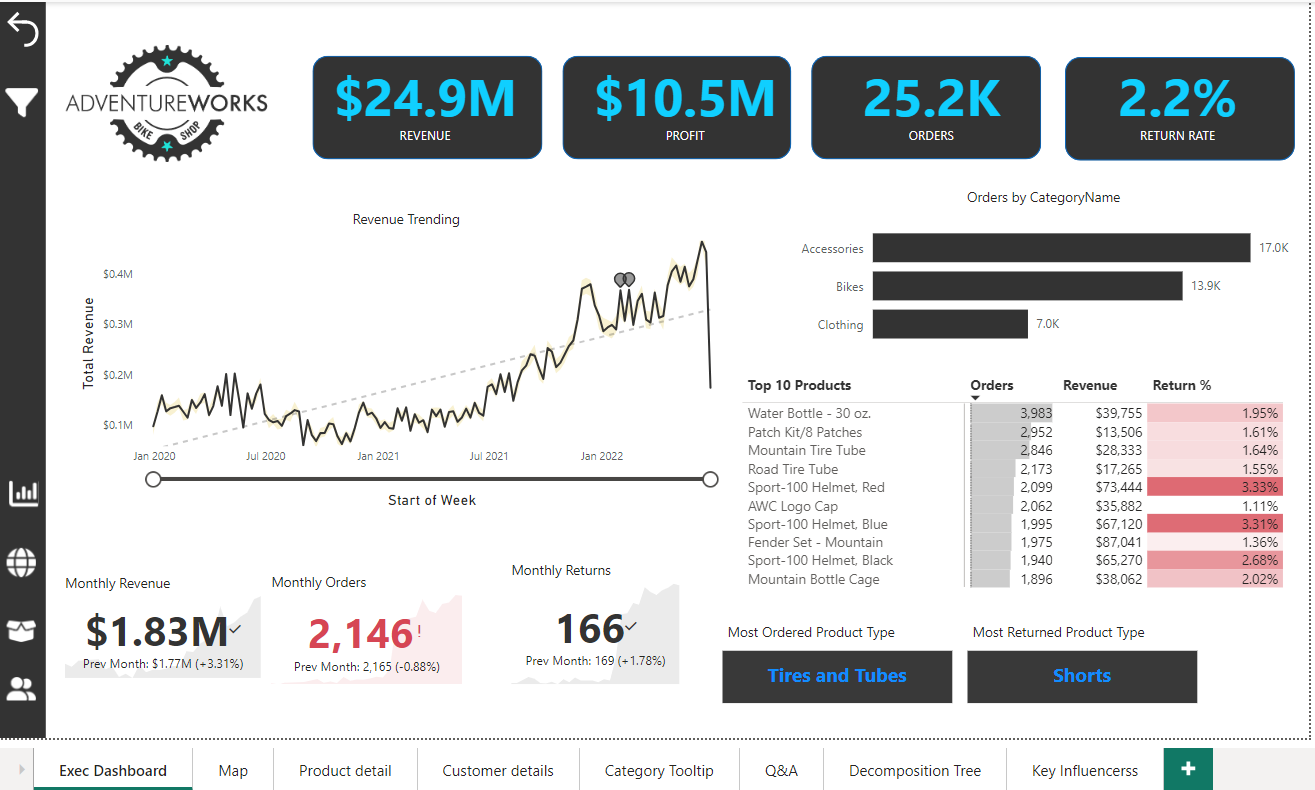

This screenshot's page, from the dashboard's own definition file:
{"tool":"powerbi","page":{"name":"Exec Dashboard","canvas":[1280,720],"ordinal":0},"visuals":[{"type":"group","id":"g1","title":"KPI backgrounds","box":[306.2,25,961.2,147.5],"z":0,"group":"g3"},{"type":"card","fields":{"Values":["Meassure Table.Return Rate"]},"box":[1052.5,25,198.8,147.5],"z":0,"group":"g2"},{"type":"image","title":"AW Logo","box":[37.5,27.5,251.2,145],"z":0},{"type":"shape","box":[306.2,52.7,225,101.2],"z":0,"group":"g1"},{"type":"actionButton","box":[4.8,447.4,36.7,67.2],"z":0,"group":"g4"},{"type":"actionButton","box":[2.4,638.1,36.7,67.2],"z":500,"group":"g4"},{"type":"shape","title":"Left Nav Background","box":[0,0,45,720],"z":1000},{"type":"group","id":"g2","title":"KPI value","box":[571,25,680.2,147.5],"z":1000,"group":"g3"},{"type":"card","fields":{"Values":["Meassure Table.Total orders"]},"box":[811.7,25,198.8,147.5],"z":1000,"group":"g2"},{"type":"shape","box":[793.7,52.7,225,101.2],"z":1000,"group":"g1"},{"type":"actionButton","box":[2.4,514.6,36.7,67.2],"z":1000,"group":"g4"},{"type":"group","id":"g3","title":"KPIs ","box":[306.2,25,961.2,147.5],"z":2000},{"type":"card","fields":{"Values":["Meassure Table.Total Profit"]},"box":[571,25,198.8,147.5],"z":2000,"group":"g2"},{"type":"shape","box":[1042.4,53.9,225,101.2],"z":2000,"group":"g1"},{"type":"actionButton","box":[2.4,581.9,36.7,67.2],"z":2000,"group":"g4"},{"type":"card","fields":{"Values":["Meassure Table.Total Revenue"]},"box":[317.8,25,198.8,147.5],"z":3000,"group":"g1"},{"type":"lineChart","title":"Revenue Trending","fields":{"Y":["Meassure Table.Total Revenue"],"Category":["Calendar Lookup.Start of Week"]},"box":[73.3,202.9,647.9,295.8],"z":3000},{"type":"shape","box":[551.2,52.7,223.8,101.2],"z":4000,"group":"g1"},{"type":"kpi","title":"Monthly Revenue","fields":{"Indicator":["Meassure Table.Total Revenue"],"TrendLine":["Calendar Lookup.Date Hierarchy.Start of Month"],"Goal":["Meassure Table.Previous month revenue"]},"box":[58.7,558.6,201.7,107.6],"z":4000},{"type":"kpi","title":"Monthly Orders","fields":{"TrendLine":["Calendar Lookup.Start of Month"],"Indicator":["Meassure Table.Total orders"],"Goal":["Meassure Table.Previous Month Orders"]},"box":[260.4,557.4,196.8,114.9],"z":5000},{"type":"kpi","title":"Monthly Returns","fields":{"Indicator":["Meassure Table.Total Returns"],"TrendLine":["Calendar Lookup.Start of Month"],"Goal":["Meassure Table.Previous Month Returns"]},"box":[495.1,546.4,174.8,125.9],"z":6000},{"type":"clusteredBarChart","title":"Orders by CategoryName","fields":{"Category":["Product Categories Lookup.CategoryName"],"Y":["Meassure Table.Total orders"]},"box":[773.8,180.9,493.9,169.9],"z":7000},{"type":"pivotTable","fields":{"Rows":["Product Lookup.ProductName"],"Values":["Meassure Table.Total orders","Meassure Table.Total Revenue","Meassure Table.Return Rate"]},"box":[721.2,360.6,546.4,217.6],"z":8000},{"type":"card","fields":{"Values":["Min(Product Subcategories Lookup.SubcategoryName)"]},"box":[706.6,634.4,224.9,51.3],"z":9000},{"type":"textbox","box":[706.6,601.4,185.8,47.7],"z":10000},{"type":"card","fields":{"Values":["Min(Product Subcategories Lookup.SubcategoryName)"]},"box":[946.1,634.4,224.9,51.3],"z":11000},{"type":"textbox","box":[946.4,601.4,185.8,47.7],"z":12000},{"type":"actionButton","box":[0,0,45.2,52.6],"z":13000},{"type":"group","id":"g4","title":"Navigation Buttons","box":[2.4,447.4,39.1,257.9],"z":15000},{"type":"actionButton","box":[1.2,78.2,41.6,40.3],"z":16000}]}

Visuals, with their boxes on the page's 1280x720 design canvas (x1, y1, x2, y2). These are canvas units, not pixel positions in the 1315x790 screenshot, which may show the page scaled, cropped or inside an application window:
"KPI backgrounds" group: [306, 25, 1267, 172]
card - Meassure Table.Return Rate: [1052, 25, 1251, 172]
"AW Logo" image: [38, 28, 289, 172]
shape: [306, 53, 531, 154]
actionButton: [5, 447, 42, 515]
actionButton: [2, 638, 39, 705]
"Left Nav Background" shape: [0, 0, 45, 720]
"KPI value" group: [571, 25, 1251, 172]
card - Meassure Table.Total orders: [812, 25, 1010, 172]
shape: [794, 53, 1019, 154]
actionButton: [2, 515, 39, 582]
"KPIs " group: [306, 25, 1267, 172]
card - Meassure Table.Total Profit: [571, 25, 770, 172]
shape: [1042, 54, 1267, 155]
actionButton: [2, 582, 39, 649]
card - Meassure Table.Total Revenue: [318, 25, 517, 172]
"Revenue Trending" lineChart: [73, 203, 721, 499]
shape: [551, 53, 775, 154]
"Monthly Revenue" kpi: [59, 559, 260, 666]
"Monthly Orders" kpi: [260, 557, 457, 672]
"Monthly Returns" kpi: [495, 546, 670, 672]
"Orders by CategoryName" clusteredBarChart: [774, 181, 1268, 351]
pivotTable - Product Lookup.ProductName x Meassure Table.Total orders: [721, 361, 1268, 578]
card - Min(Product Subcategories Lookup.SubcategoryName): [707, 634, 932, 686]
textbox: [707, 601, 892, 649]
card - Min(Product Subcategories Lookup.SubcategoryName): [946, 634, 1171, 686]
textbox: [946, 601, 1132, 649]
actionButton: [0, 0, 45, 53]
"Navigation Buttons" group: [2, 447, 42, 705]
actionButton: [1, 78, 43, 118]
